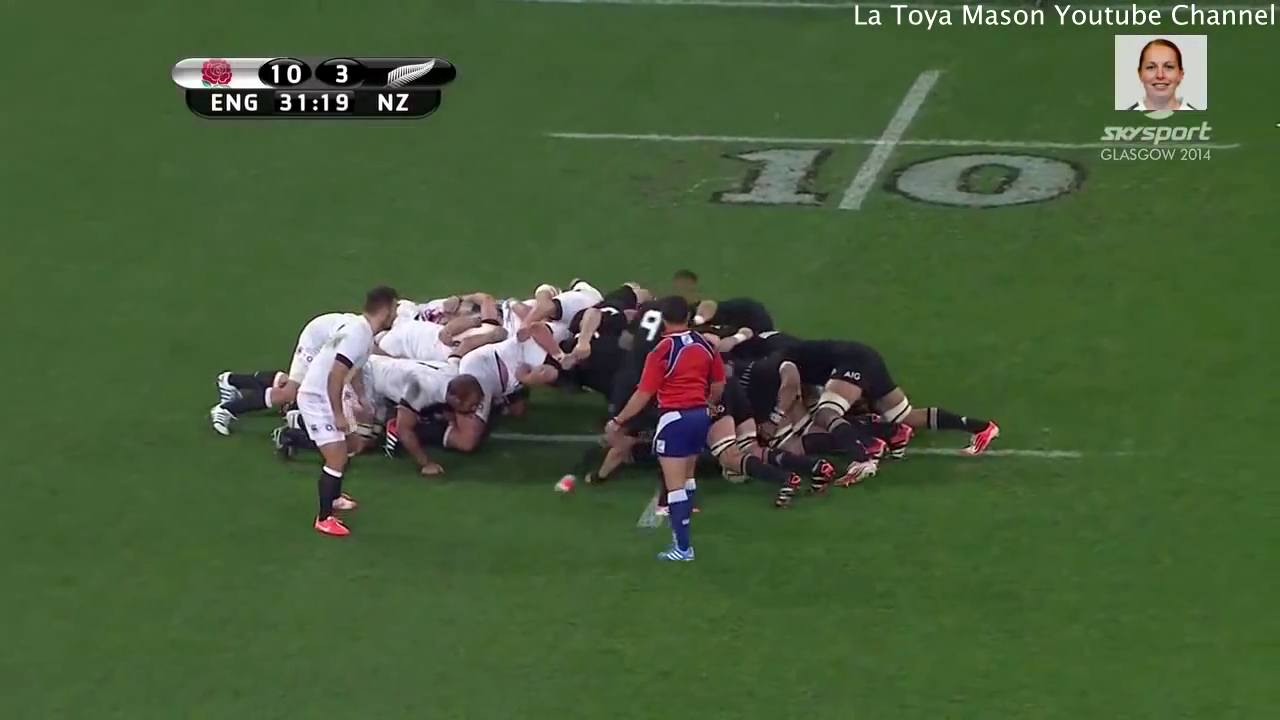10_metre: (537, 57, 1256, 227), (441, 354, 1092, 530)
player: (611, 299, 738, 565), (291, 280, 408, 546)
scrum: (182, 266, 1019, 509)
